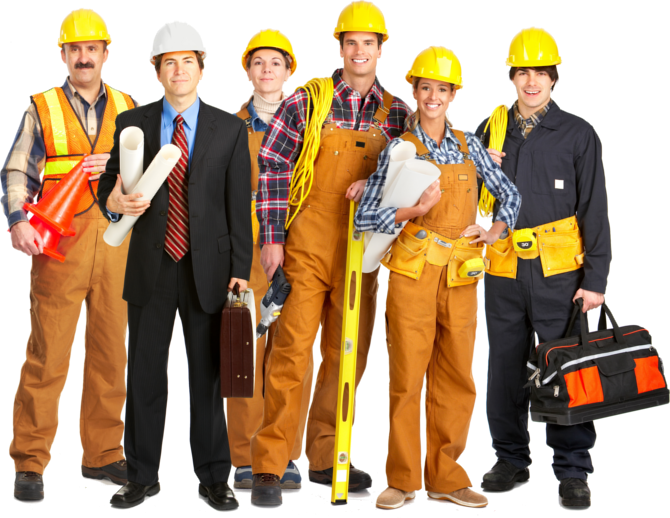Person_wearing_helmet: (43, 0, 116, 59), (499, 11, 565, 76), (403, 34, 466, 94), (143, 15, 206, 72), (237, 20, 303, 67), (331, 0, 392, 46)
